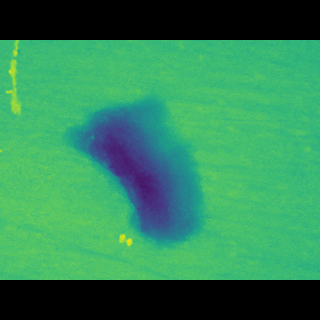Loch: (56, 111, 204, 226), (3, 69, 33, 128)
